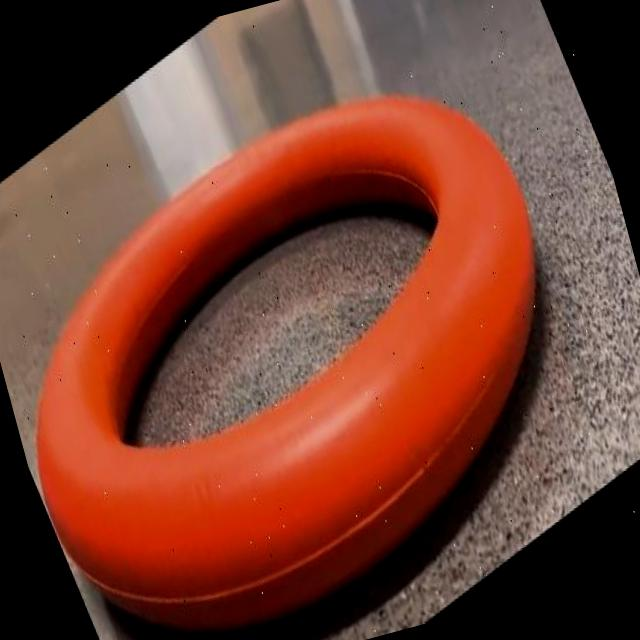note: (37, 95, 534, 630)
